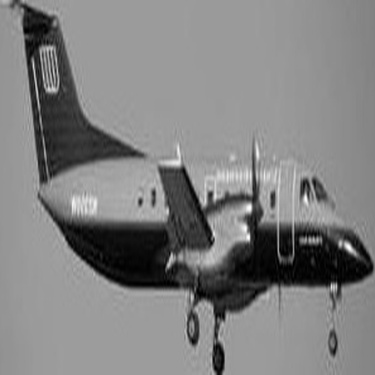airplane: (3, 6, 373, 372)
